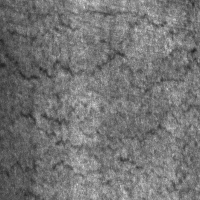crazing: (0, 1, 165, 83), (36, 112, 192, 190), (92, 10, 199, 121), (4, 109, 80, 198)
